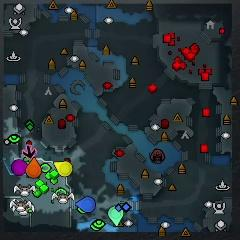p1: (76, 196, 96, 212)
p2: (108, 205, 123, 227)
p3: (11, 159, 28, 175)
p4: (52, 161, 72, 176)
p5: (27, 158, 42, 179)
x1Clone: (22, 145, 37, 158)
